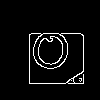Q: (25, 25, 74, 81)
